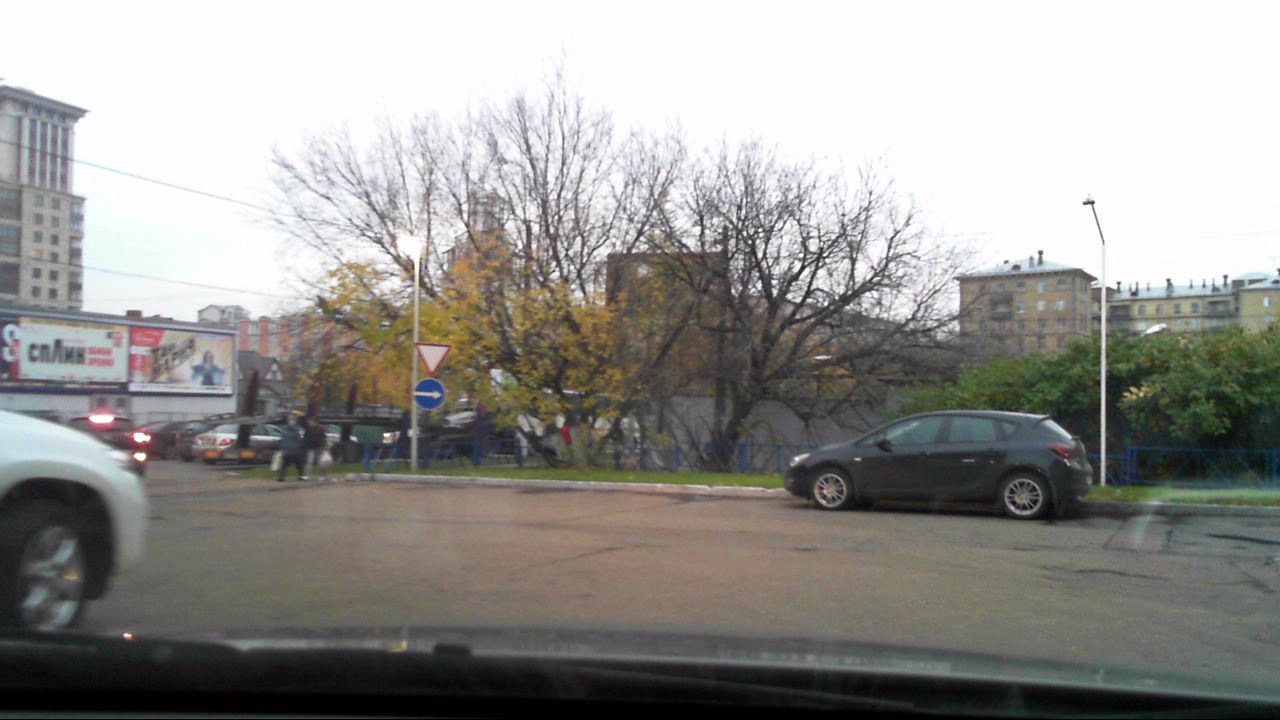Turn Right: (414, 379, 445, 410)
